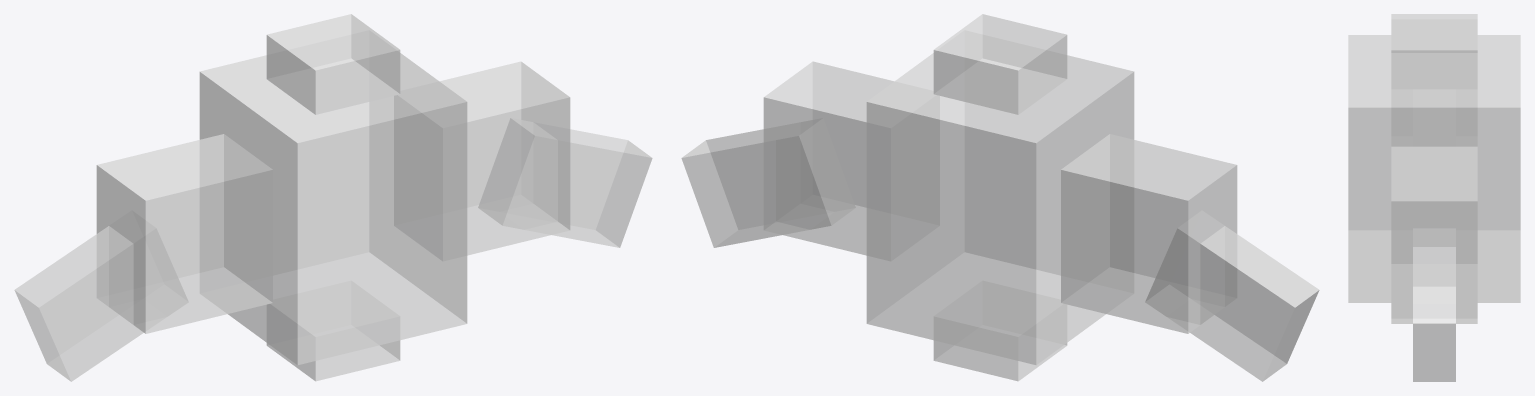
Rendered from base_outline.obj.
3 renders of one model, left to right at view 1: azimuth 30°, elevation 25°; view 2: azimuth 150°, elevation 25°; view 3: azimuth 270°, elevation 25°, orthographic. The views are drawn at different scales.
Visible parts, largest first — view 1: cube3, cube5, cube7, cube4, cube6, cube2, cube; view 2: cube3, cube5, cube7, cube4, cube6, cube2, cube; view 3: cube3, cube7, cube6, cube2, cube5, cube.
Boxes of the visible parts, box(x1,y1,x2,y2) form: cube3: box(199, 31, 467, 365); cube5: box(96, 134, 272, 333); cube7: box(394, 61, 570, 260); cube4: box(14, 210, 188, 381); cube6: box(478, 118, 652, 247); cube2: box(266, 14, 400, 114); cube: box(266, 281, 400, 381); cube3: box(866, 31, 1134, 365); cube5: box(1061, 134, 1237, 333); cube7: box(763, 61, 939, 260); cube4: box(1145, 210, 1319, 381); cube6: box(681, 118, 855, 247); cube2: box(933, 14, 1067, 114); cube: box(933, 281, 1067, 381); cube3: box(1348, 35, 1520, 302); cube7: box(1391, 146, 1477, 318); cube6: box(1413, 228, 1455, 381); cube2: box(1391, 14, 1477, 89); cube5: box(1392, 20, 1477, 146); cube: box(1391, 303, 1477, 323).
Bounding box in the file's own units: 1.08 × 0.525 × 0.3.
